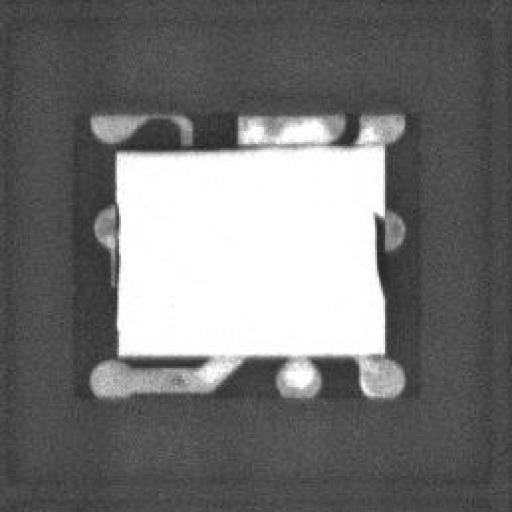DIE_BROKEN: (113, 142, 282, 154), (367, 206, 383, 302), (113, 197, 119, 355)
